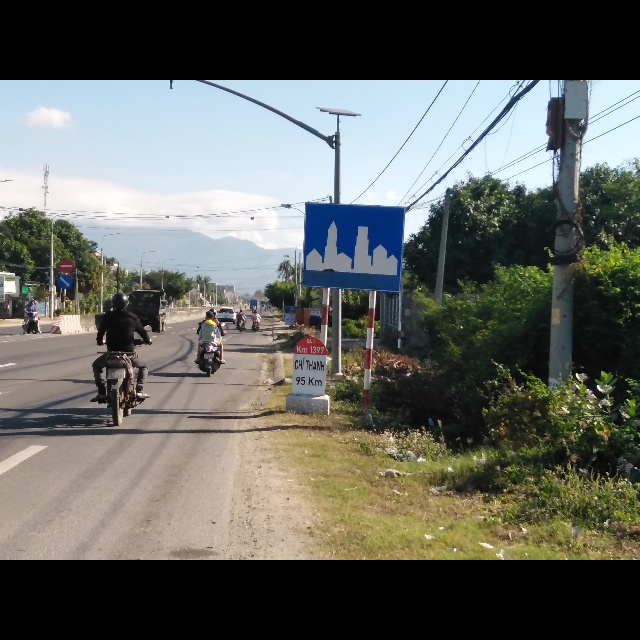Khu đông dân cư: (302, 201, 406, 288)
